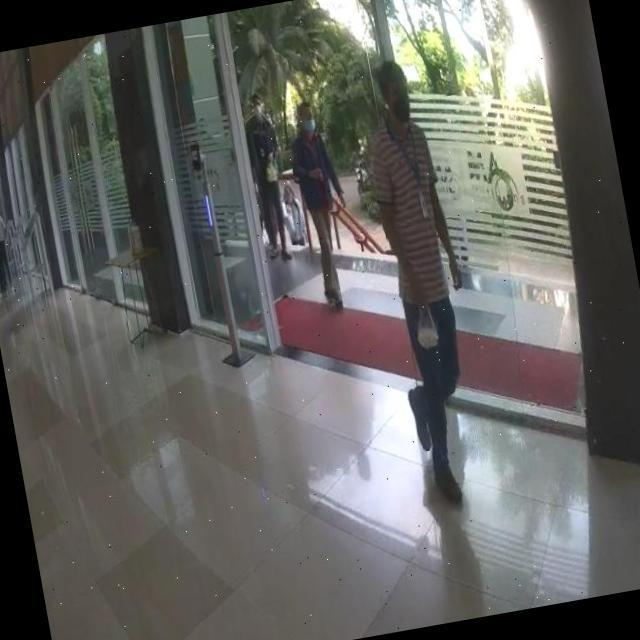person: (347, 54, 500, 513), (284, 100, 356, 309), (239, 93, 297, 264)
